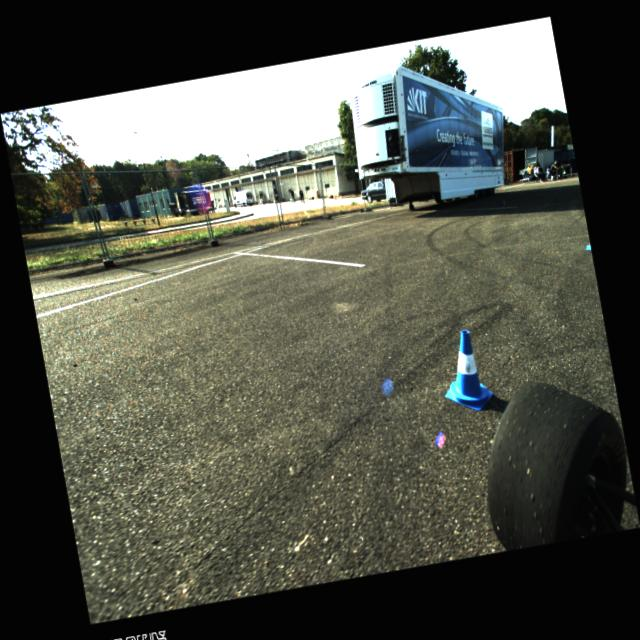blue_cone: (434, 326, 495, 414)
